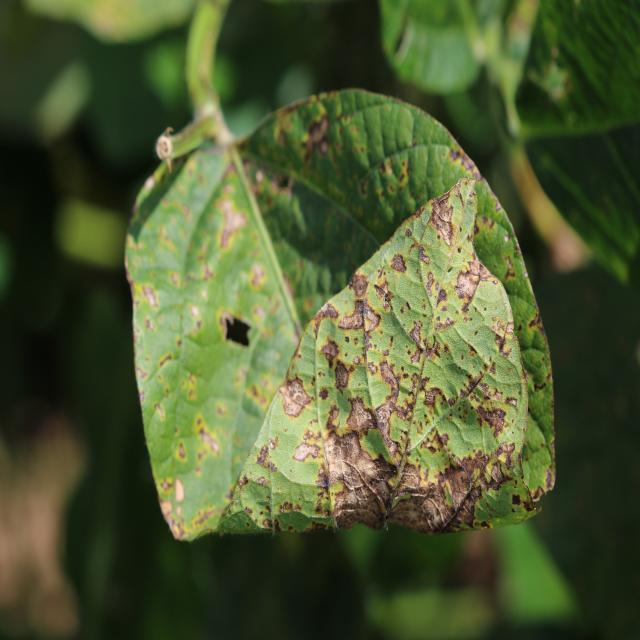Bacterial_Blight: (324, 427, 382, 493), (344, 274, 385, 348), (440, 462, 480, 518), (451, 254, 484, 312), (371, 155, 408, 204), (252, 165, 295, 203), (217, 198, 246, 250), (457, 446, 492, 486), (430, 197, 457, 245), (302, 113, 330, 159), (475, 400, 510, 436), (374, 394, 402, 437), (281, 381, 312, 419), (480, 454, 511, 491), (345, 398, 376, 431), (458, 366, 488, 399), (378, 358, 402, 398), (293, 440, 321, 463), (198, 428, 220, 456), (217, 306, 238, 335), (494, 331, 513, 357), (408, 319, 425, 348), (334, 361, 350, 391), (350, 273, 369, 298), (248, 264, 266, 289), (320, 338, 340, 359), (141, 285, 159, 307), (389, 253, 407, 273), (319, 303, 339, 320), (256, 445, 270, 468), (373, 283, 389, 302), (200, 263, 215, 282), (504, 255, 516, 278), (423, 389, 439, 406), (158, 352, 174, 369), (533, 376, 549, 392), (316, 467, 329, 486), (436, 287, 448, 306), (160, 478, 173, 493), (279, 501, 295, 513), (154, 402, 165, 419), (318, 386, 329, 401), (238, 475, 249, 489), (256, 476, 270, 486), (505, 396, 517, 407), (269, 461, 278, 473), (405, 227, 413, 237)
Soybean: (125, 91, 555, 539)
